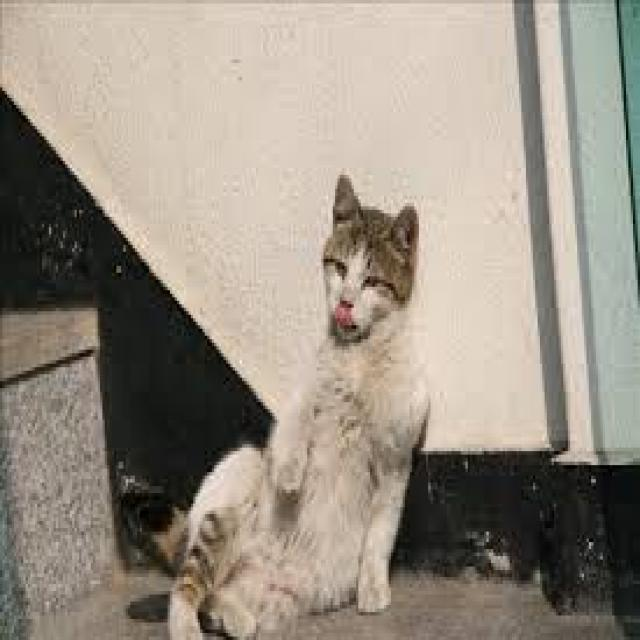cat: (141, 166, 456, 640)
